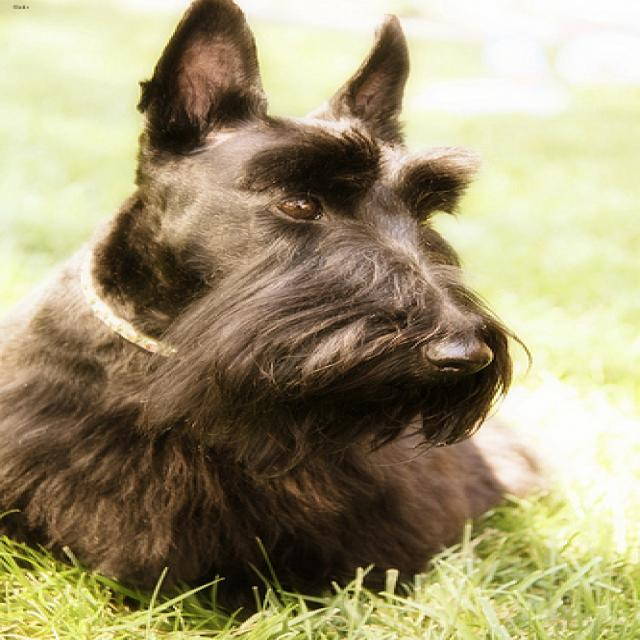dog-scottish_terrier: (2, 1, 573, 637)
